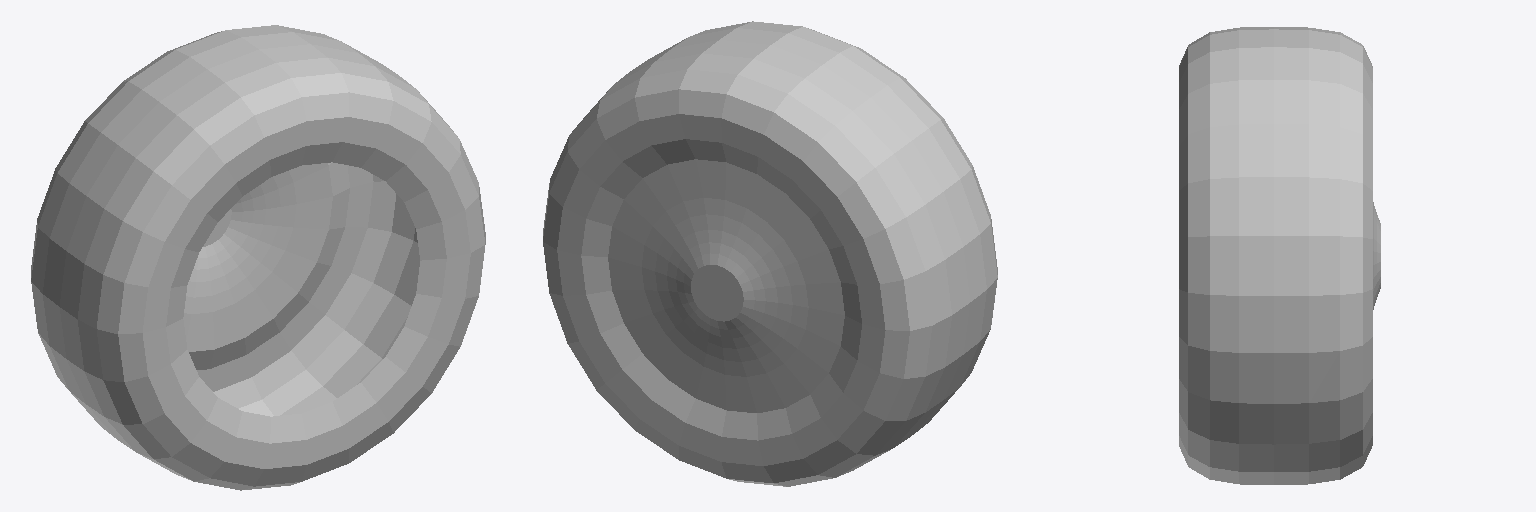
File: nurbswheelMesh.obj
3 renders of one model, left to right at view 1: azimuth 30°, elevation 25°; view 2: azimuth 150°, elevation 25°; view 3: azimuth 270°, elevation 25°, orthographic.
Parts seen in each view (by area): view 1: nurbsCircle11; view 2: nurbsCircle11; view 3: nurbsCircle11.
Boxes of the visible parts, x1=… form: nurbsCircle11: x1=31, y1=25, x2=485, y2=490; nurbsCircle11: x1=543, y1=21, x2=997, y2=486; nurbsCircle11: x1=1179, y1=27, x2=1380, y2=484.
Size of the model in its own units: 2.17 by 2.17 by 0.9569.